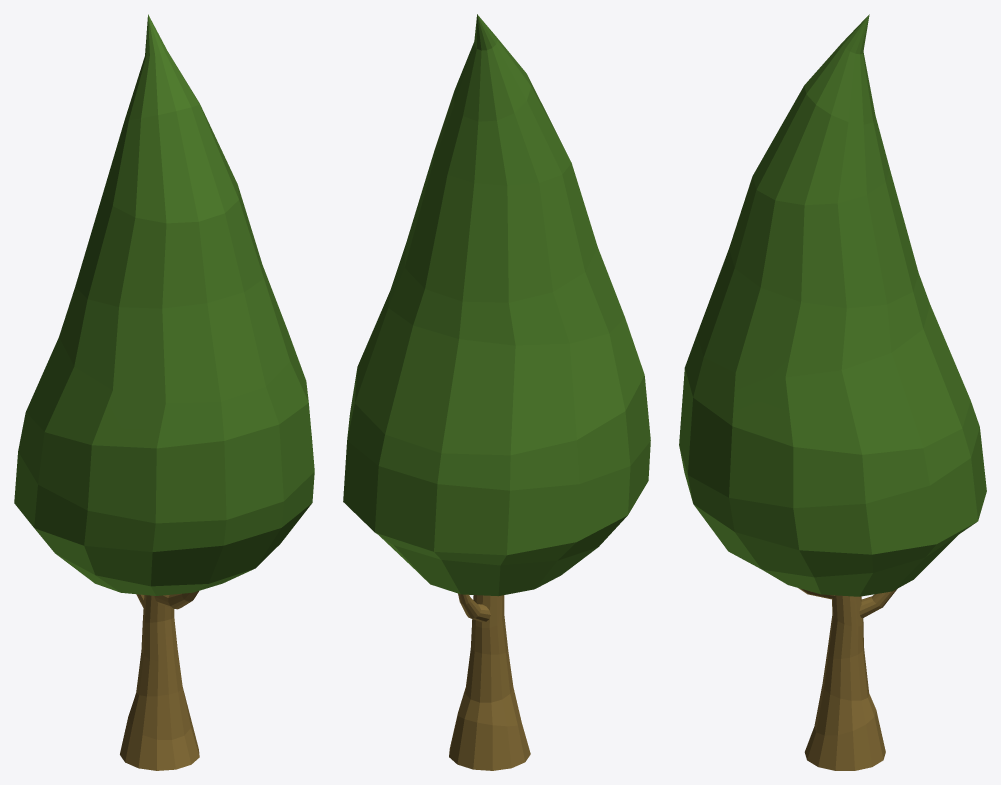
The model's file is tree_6.gltf.
3 views of the same model, side by side, from view 1: azimuth 30°, elevation 25°; view 2: azimuth 150°, elevation 25°; view 3: azimuth 270°, elevation 25° (orthographic). The views are drawn at different scales.
Visible parts, largest first — view 1: Circle.004, Circle.003_Material.011_0; view 2: Circle.004, Circle.003_Material.011_0; view 3: Circle.004, Circle.003_Material.011_0.
Boxes of the visible parts, x1=… form: Circle.004: x1=14, y1=14, x2=314, y2=595; Circle.003_Material.011_0: x1=120, y1=591, x2=199, y2=770; Circle.004: x1=343, y1=14, x2=650, y2=596; Circle.003_Material.011_0: x1=449, y1=593, x2=530, y2=770; Circle.004: x1=679, y1=14, x2=986, y2=596; Circle.003_Material.011_0: x1=798, y1=588, x2=897, y2=770.
Bounding box in the file's own units: 3.45 × 9.37 × 3.53.
